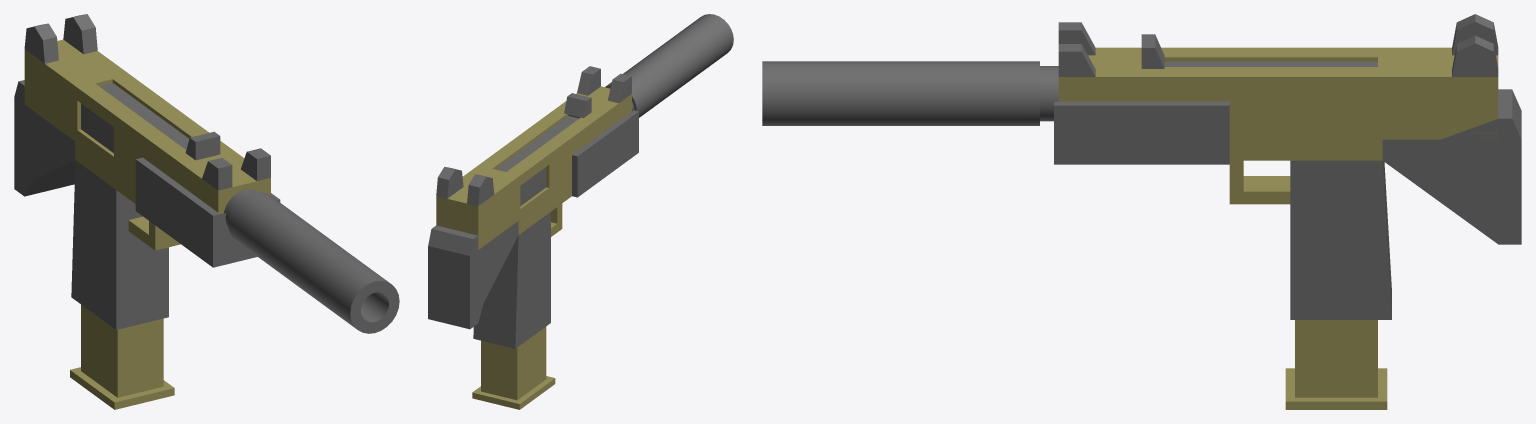
File: uziGoldLongSilencer.glb
3 renders of one model, left to right at view 1: azimuth 30°, elevation 25°; view 2: azimuth 150°, elevation 25°; view 3: azimuth 270°, elevation 25°, orthographic. The views are drawn at different scales.
Visible parts, largest first — view 1: uziGoldLongSilencer; view 2: uziGoldLongSilencer; view 3: uziGoldLongSilencer.
Part boxes in pixels (box(x1,y1,x2,y2)): uziGoldLongSilencer: box(14, 14, 399, 409); uziGoldLongSilencer: box(428, 14, 733, 409); uziGoldLongSilencer: box(762, 14, 1521, 409).
Bounding box in the file's own units: 0.0114 × 0.0522 × 0.0985.
